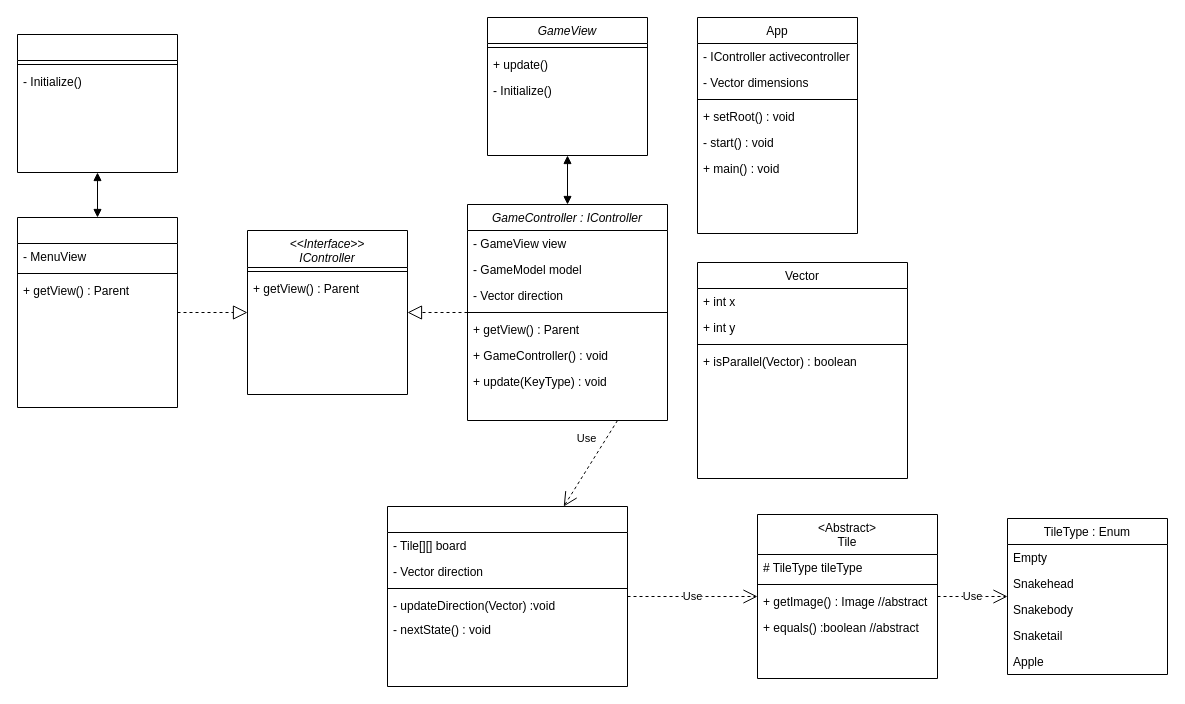
Some shapes in this 1185 by 704 pixel diagram are drawn without their labels. The box of each missing label's shape, as (x1, y1, x2, y2) in pixels:
GameModel: (386, 506, 628, 686)
MenuController: (16, 216, 178, 408)
MenuView: (16, 34, 178, 172)
